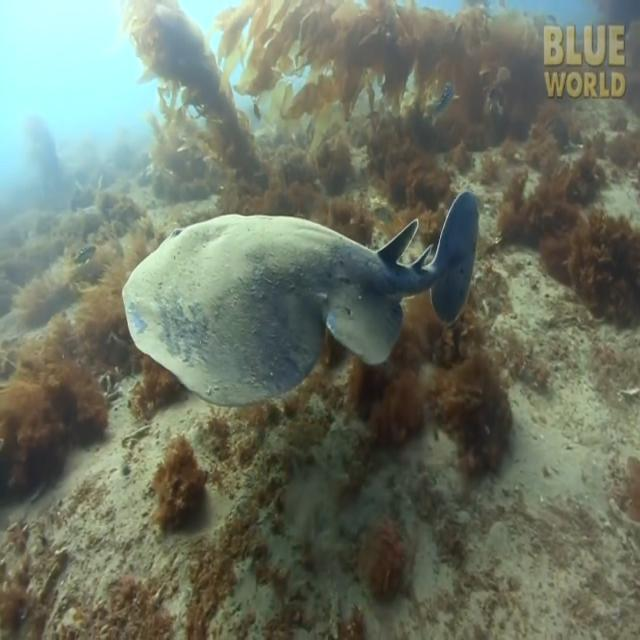Torpedo -Electrical-: (124, 194, 478, 404)
